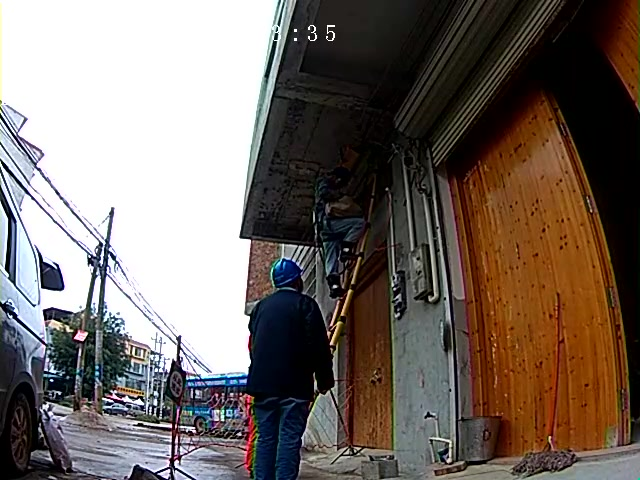halt: (274, 261, 307, 293)
